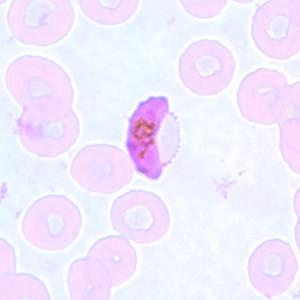Infected: (125, 96, 183, 181)
Uninfected: (6, 56, 74, 112), (22, 194, 84, 251), (19, 98, 78, 157), (111, 189, 172, 244), (5, 0, 76, 47), (178, 37, 235, 94), (70, 143, 132, 193), (237, 69, 292, 125), (247, 240, 298, 297), (252, 3, 300, 62), (88, 234, 138, 285), (68, 258, 113, 300)
